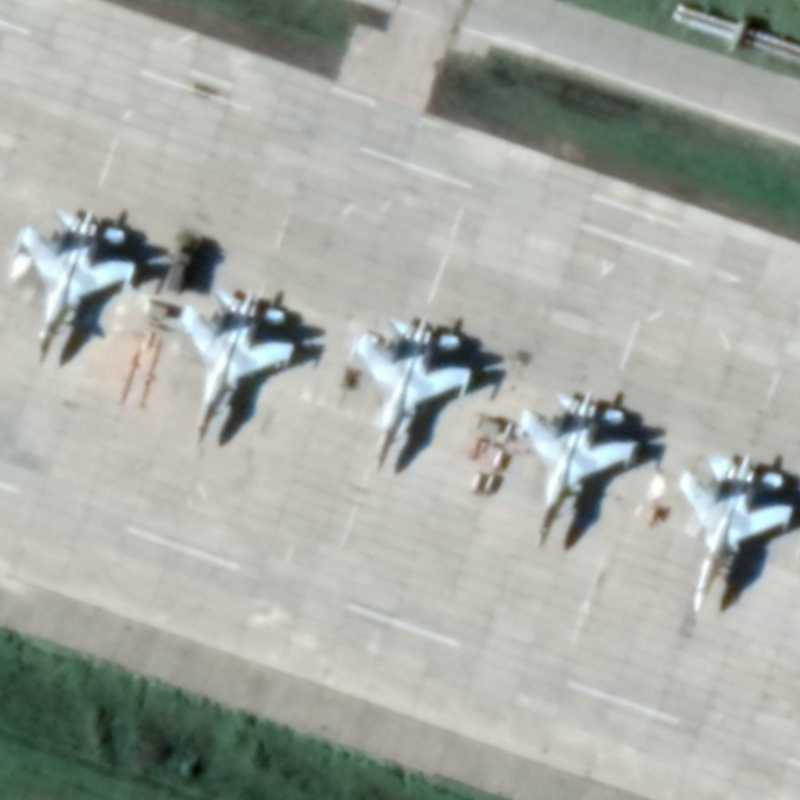A1: (176, 284, 301, 454), (346, 315, 475, 477), (673, 449, 796, 618), (12, 205, 139, 368), (515, 389, 640, 554)
